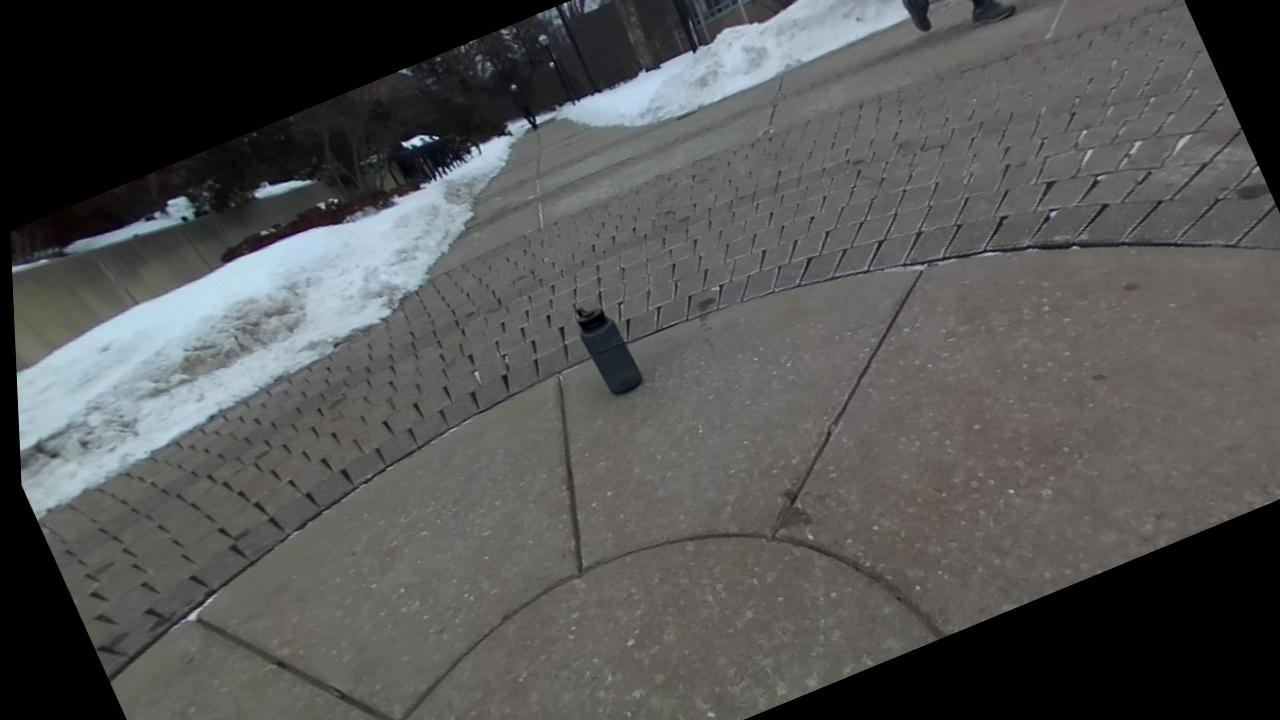bottle: (575, 304, 642, 393)
